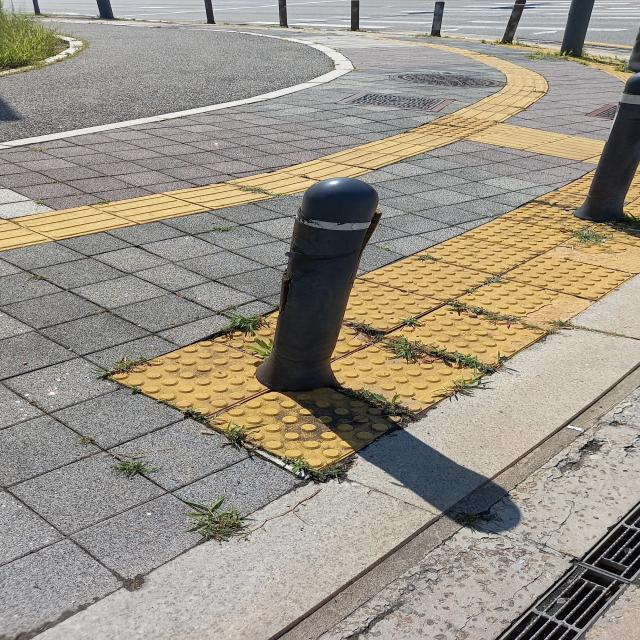pole: (255, 177, 380, 391)
